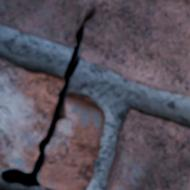brick: (106, 109, 189, 189)
broken_brick: (0, 0, 189, 97), (0, 57, 62, 169), (39, 92, 106, 189)
crack: (0, 2, 97, 187)
